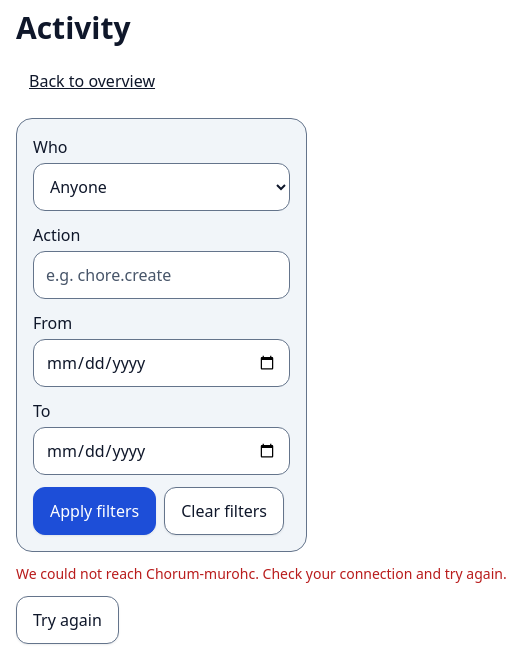
Test: error and retry › an unreachable request shows the connection sentence with a working retry
Expected: the message reads "We could not reach Chorum-murohc. Check your connection and try again.", [16, 564, 507, 583]
Click the button "Try again".
click(67, 620)  # box [16, 596, 119, 644]
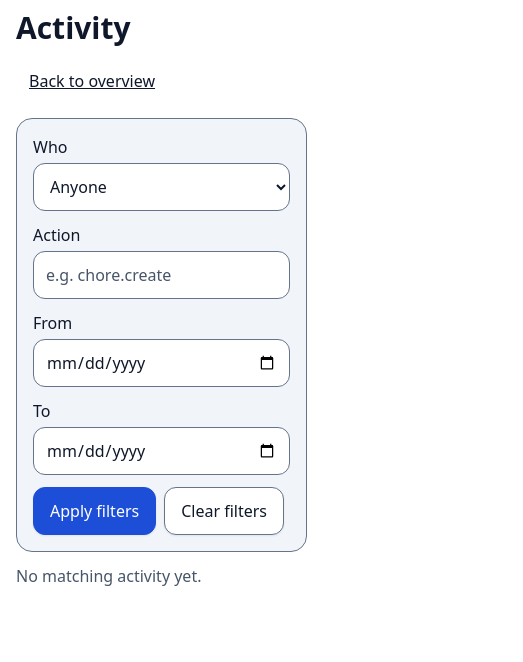
Result: the text "No matching activity yet." is shown at [16, 564, 202, 588]
